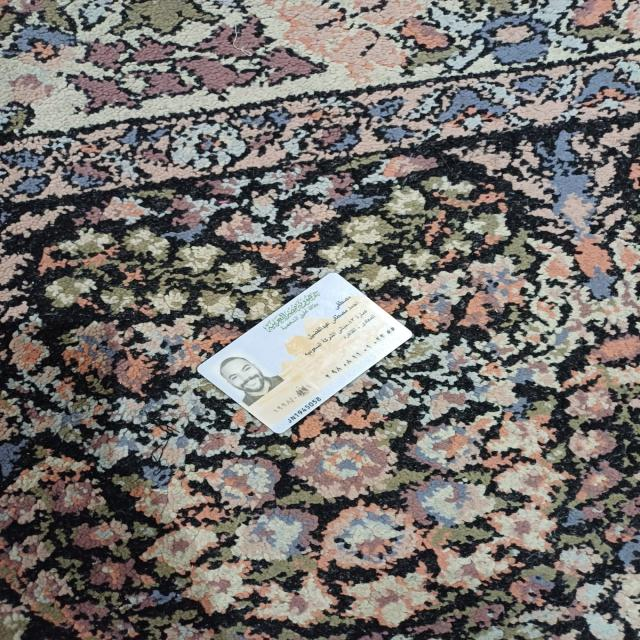id_card: (192, 265, 424, 442)
